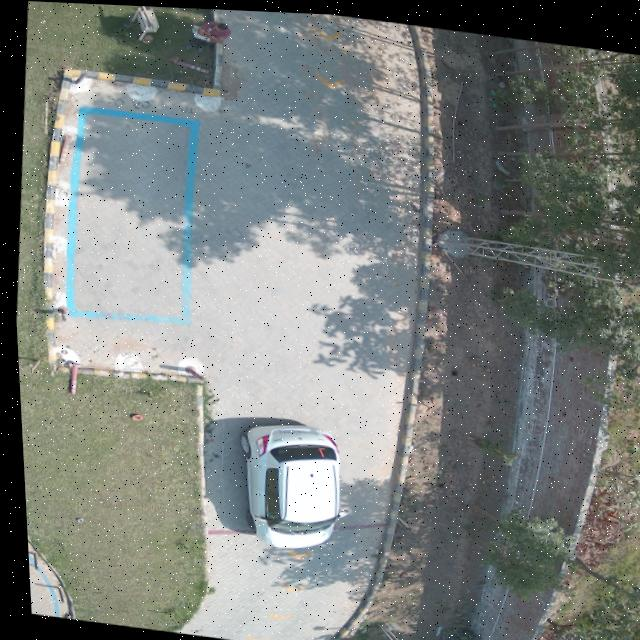car: (234, 421, 340, 547)
